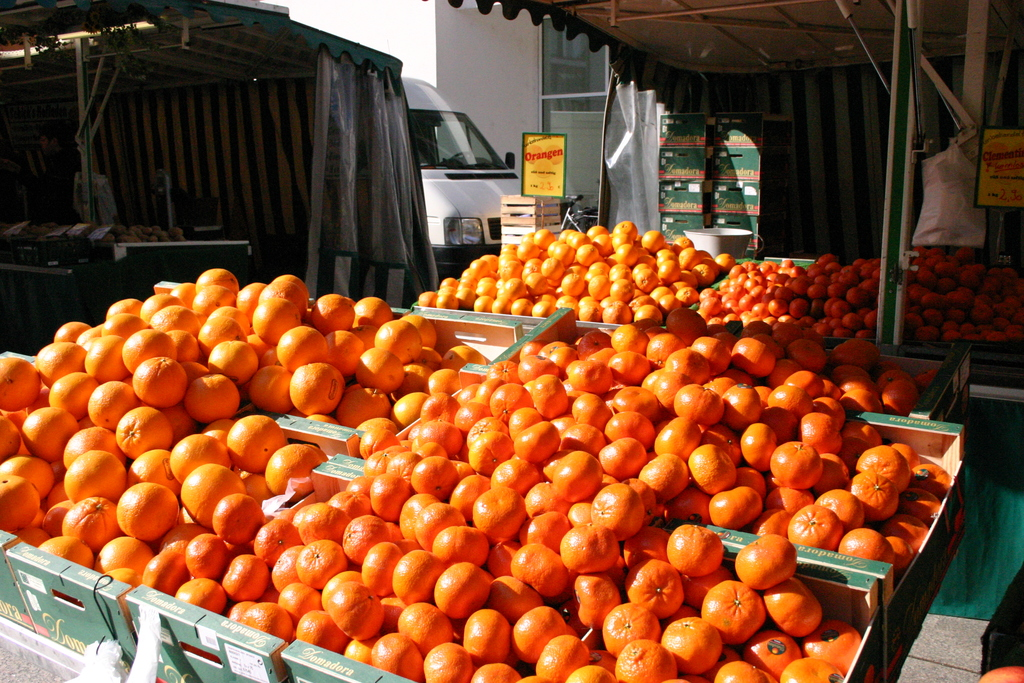Ripe: (735, 527, 797, 603)
